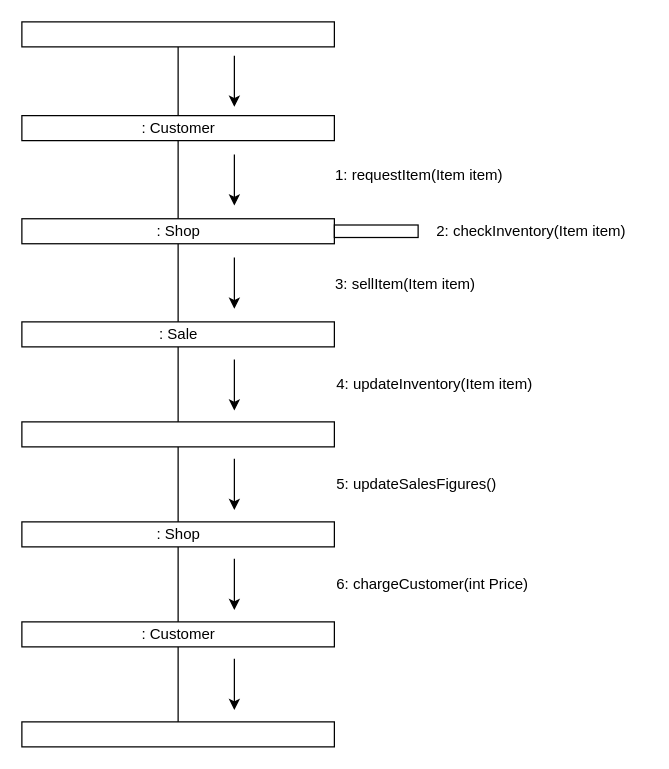
Image size: 669x769. Some labels were removed from this diagram. The centre of each missing label's shape, as x and y in pixels:
: Department: (x=177, y=434)
End of Process: (x=177, y=734)
Initialization: (x=177, y=34)
